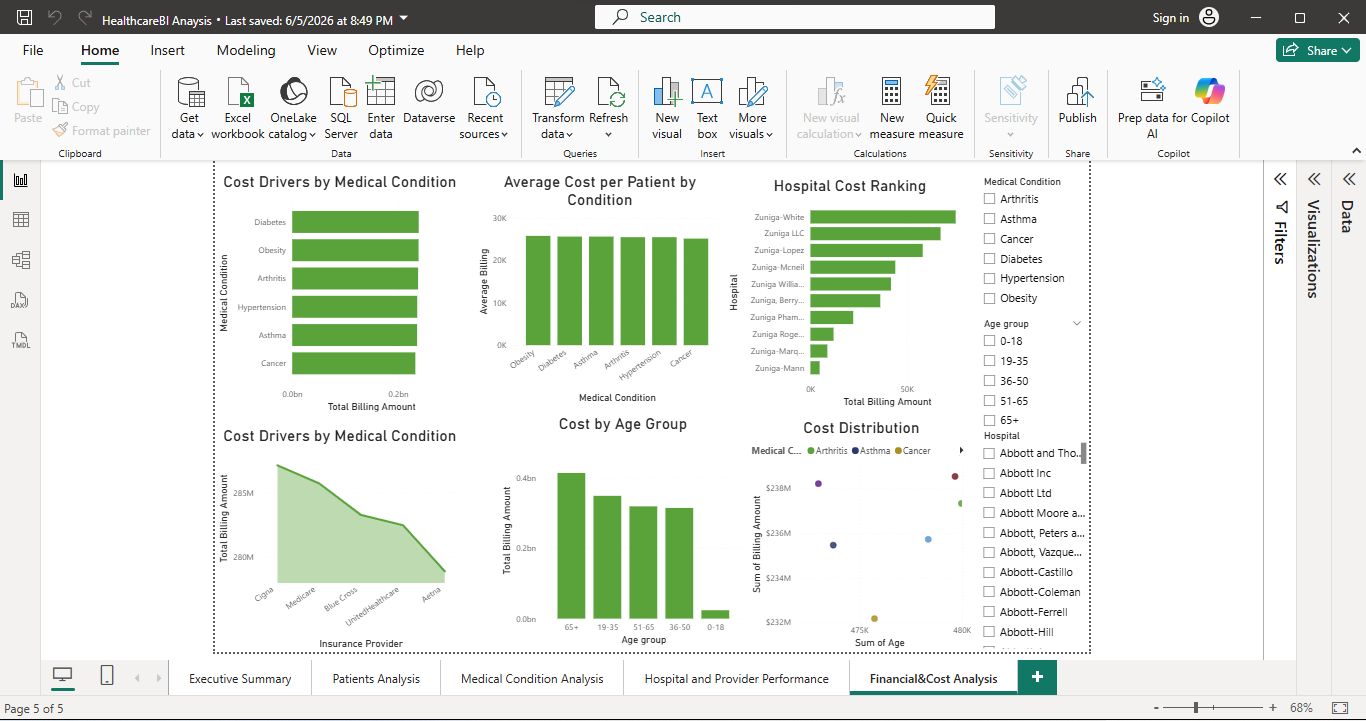

The dashboard page shown, as its layout file describes it:
{"tool":"powerbi","page":{"name":"Financial&Cost Analysis","canvas":[1280,720],"ordinal":4},"visuals":[{"type":"barChart","title":"Cost Drivers by Medical Condition","fields":{"Y":["healthcare_dataset.Total Billing Amount"],"Category":["healthcare_dataset.Medical Condition"]},"box":[0,19,365.9,354.1],"z":0},{"type":"clusteredColumnChart","title":"Average Cost per Patient by Condition","fields":{"Category":["healthcare_dataset.Medical Condition"],"Y":["healthcare_dataset.Average Billing"]},"box":[380.5,19,365.9,341],"z":1},{"type":"clusteredBarChart","title":"Hospital Cost Ranking","fields":{"Category":["healthcare_dataset.Hospital"],"Y":["healthcare_dataset.Total Billing Amount"]},"box":[746.3,24.9,365.9,341],"z":3},{"type":"stackedAreaChart","title":"Cost Drivers by Medical Condition","fields":{"Category":["healthcare_dataset.Insurance Provider"],"Y":["healthcare_dataset.Total Billing Amount"]},"box":[0,390.7,365.9,329.3],"z":4},{"type":"clusteredColumnChart","title":"Cost by Age Group","fields":{"Category":["healthcare_dataset.Age group"],"Y":["healthcare_dataset.Total Billing Amount"]},"box":[414.1,373.2,365.9,341],"z":5},{"type":"scatterChart","title":"Cost Distribution","fields":{"X":["Sum(healthcare_dataset.Age)"],"Y":["Sum(healthcare_dataset.Billing Amount)"],"Series":["healthcare_dataset.Medical Condition"]},"box":[780,379,332.2,341],"z":6},{"type":"slicer","fields":{"Values":["healthcare_dataset.Medical Condition"]},"box":[1112.2,19,168.3,207.8],"z":7},{"type":"slicer","fields":{"Values":["healthcare_dataset.Age group"]},"box":[1112.2,226.8,168.3,207.8],"z":8},{"type":"slicer","fields":{"Values":["healthcare_dataset.Hospital"]},"box":[1112.2,390.7,168.3,329.3],"z":9}]}

Visuals, with their boxes on the page's 1280x720 design canvas (x1, y1, x2, y2). These are canvas units, not pixel positions in the 1366x721 screenshot, which may show the page scaled, cropped or inside an application window:
"Cost Drivers by Medical Condition" barChart: x1=0 y1=19 x2=366 y2=373
"Average Cost per Patient by Condition" clusteredColumnChart: x1=380 y1=19 x2=746 y2=360
"Hospital Cost Ranking" clusteredBarChart: x1=746 y1=25 x2=1112 y2=366
"Cost Drivers by Medical Condition" stackedAreaChart: x1=0 y1=391 x2=366 y2=720
"Cost by Age Group" clusteredColumnChart: x1=414 y1=373 x2=780 y2=714
"Cost Distribution" scatterChart: x1=780 y1=379 x2=1112 y2=720
slicer - healthcare_dataset.Medical Condition: x1=1112 y1=19 x2=1280 y2=227
slicer - healthcare_dataset.Age group: x1=1112 y1=227 x2=1280 y2=435
slicer - healthcare_dataset.Hospital: x1=1112 y1=391 x2=1280 y2=720
